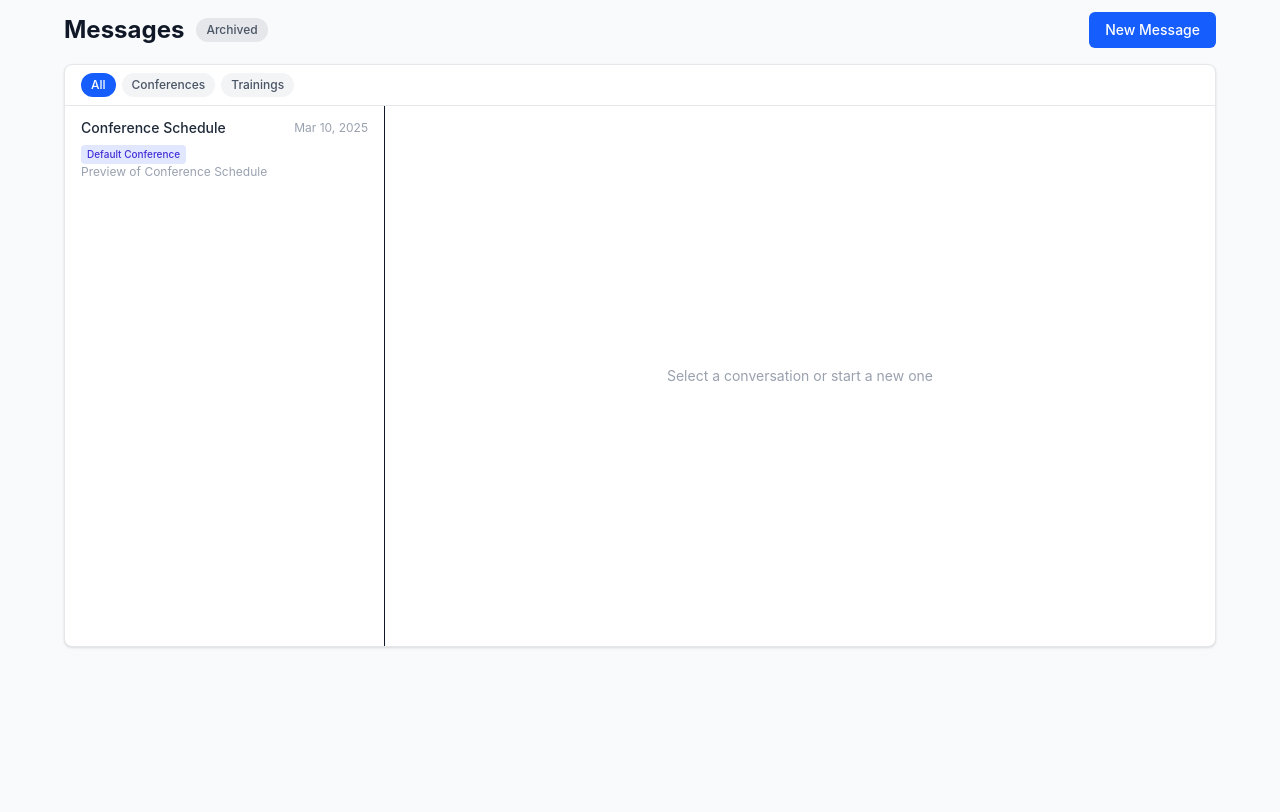
Scenario: MessagesPage › selecting a thread › shows the thread detail pane with the subject header after selecting
The image size is (1280, 812).
Click the text "Conference Schedule".
click(153, 128)  # box [81, 118, 226, 138]
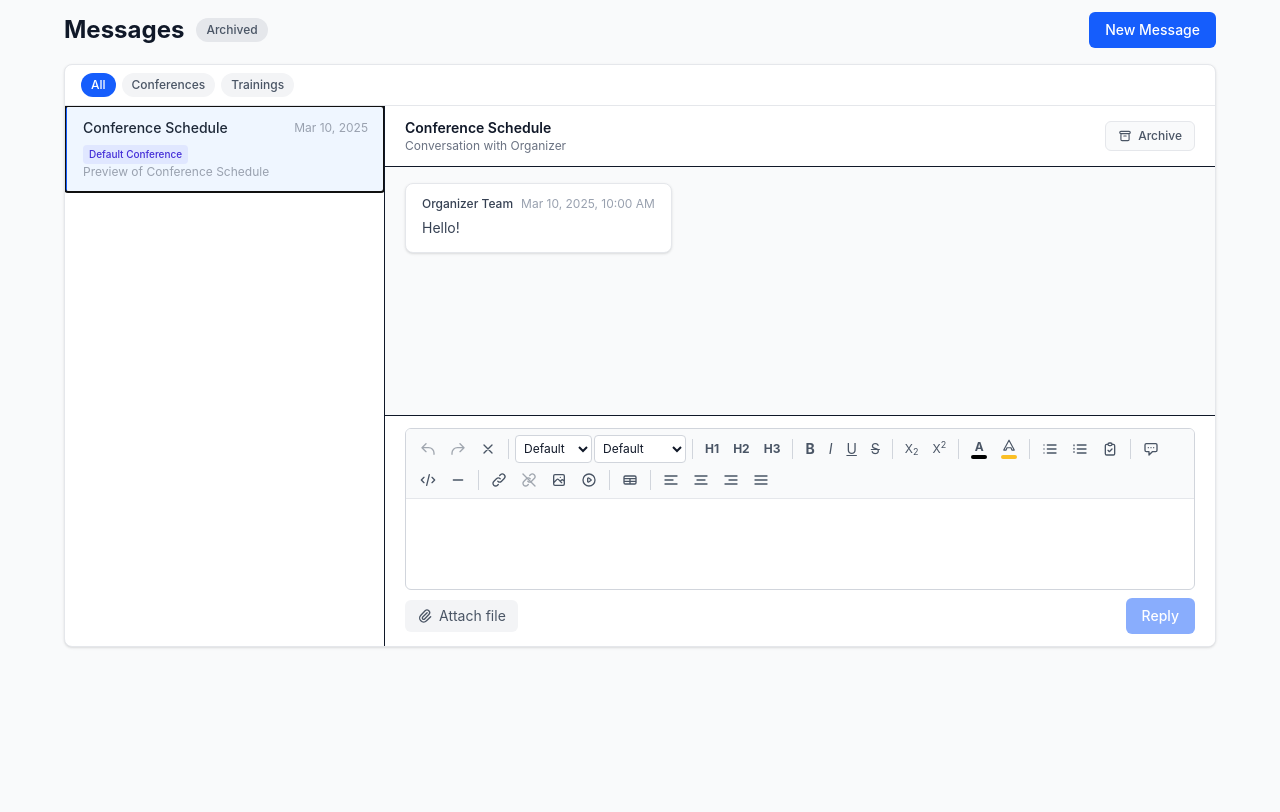
Now the heading "Conference Schedule" is shown, box [405, 119, 551, 136]
